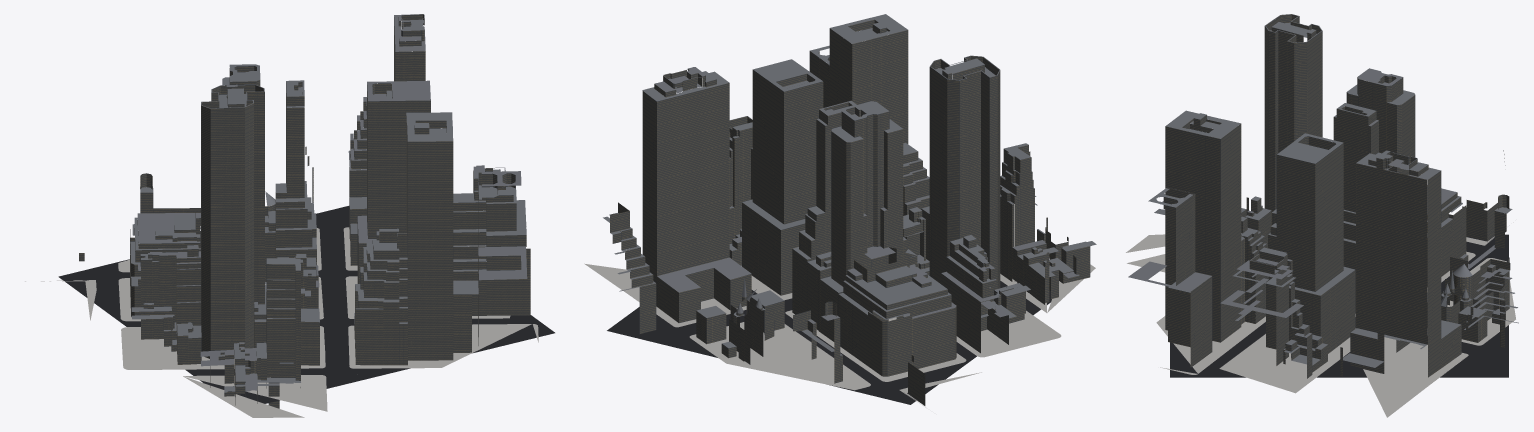
3 renders of one model, left to right at view 1: azimuth 30°, elevation 25°; view 2: azimuth 150°, elevation 25°; view 3: azimuth 270°, elevation 25°, orthographic. The views are drawn at different scales.
Parts seen in each view (by area): view 1: t6_5, detail; view 2: t6_5, detail; view 3: t6_5, detail.
Boxes of the visible parts, <box> form: t6_5: <box>58,14,554,408</box>; detail: <box>25,226,538,417</box>; t6_5: <box>603,14,1096,405</box>; detail: <box>584,263,1095,407</box>; t6_5: <box>1128,14,1518,378</box>; detail: <box>1126,222,1515,417</box>.
Bounding box in the file's own units: 356 × 202 × 291.
Materials: 4 (2 with a texture image).
